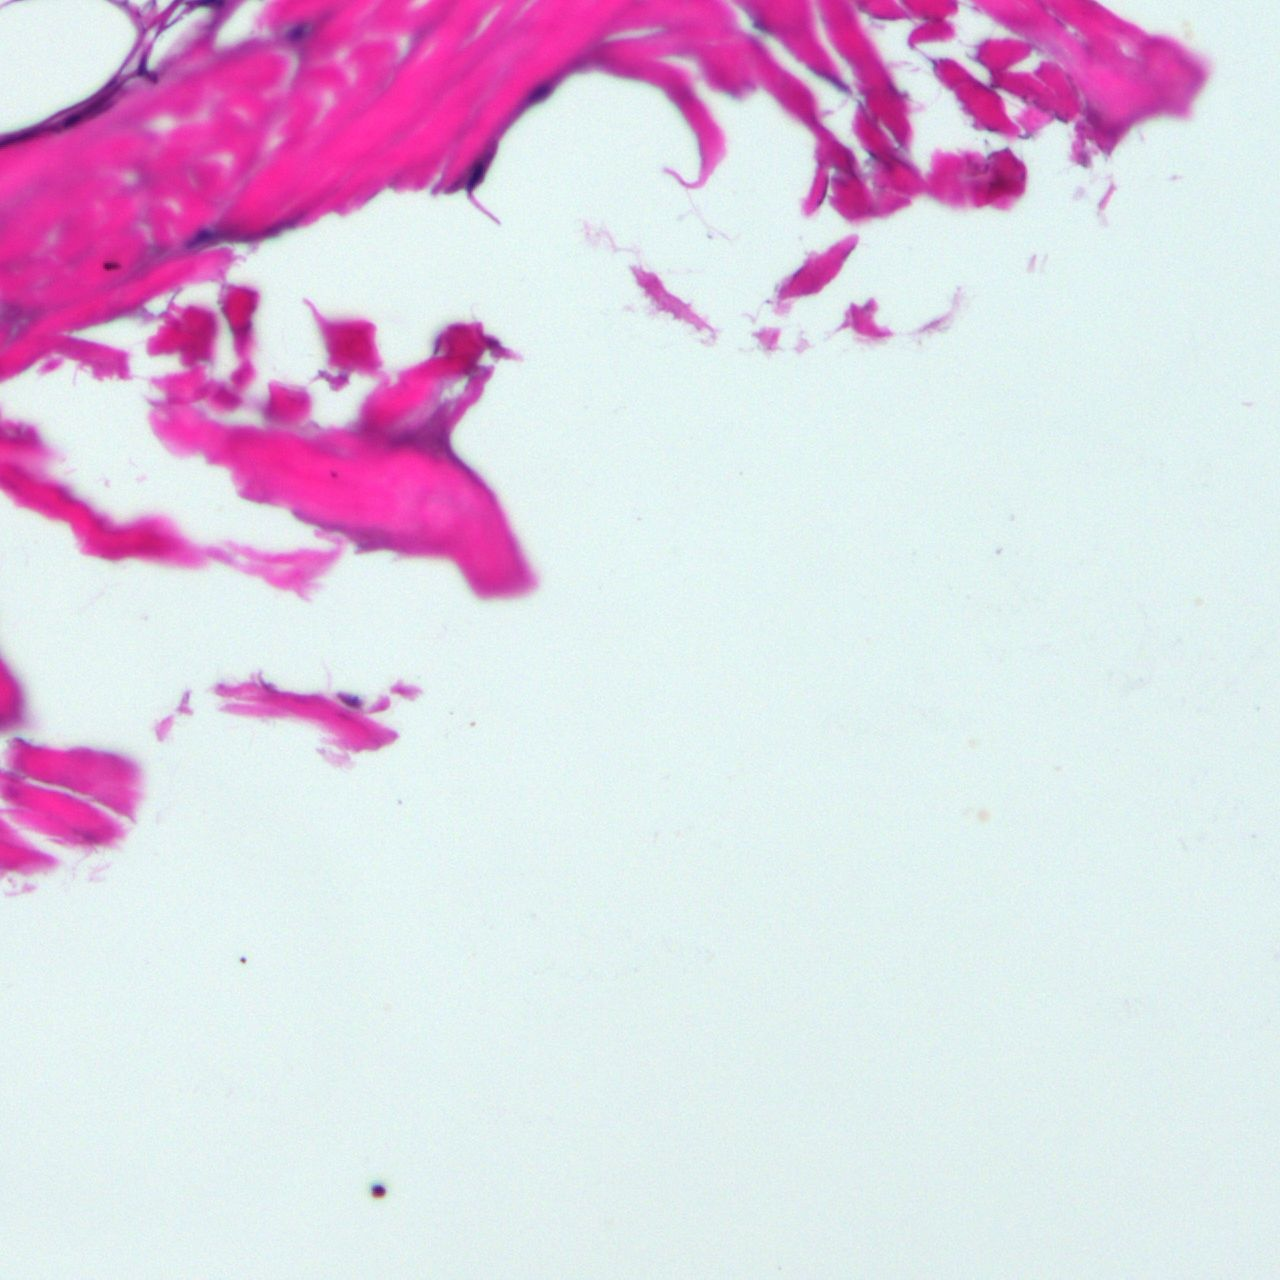dust: (1182, 18, 1196, 40), (978, 805, 992, 823), (1193, 595, 1203, 605), (967, 738, 976, 747), (468, 721, 476, 726)
nucleus-HE: (178, 220, 222, 259), (459, 157, 490, 192), (524, 76, 553, 107), (57, 109, 84, 131), (284, 20, 308, 39), (137, 52, 149, 75)
